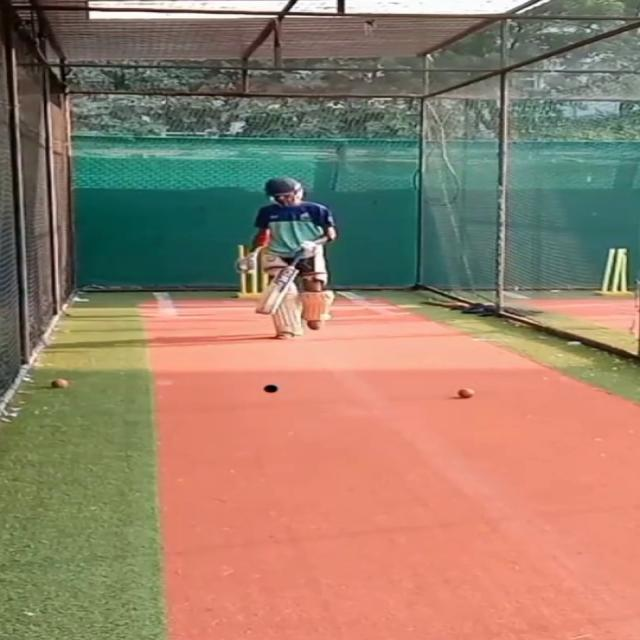ball: (454, 386, 474, 398), (48, 377, 68, 389)
stump: (232, 242, 263, 299)
